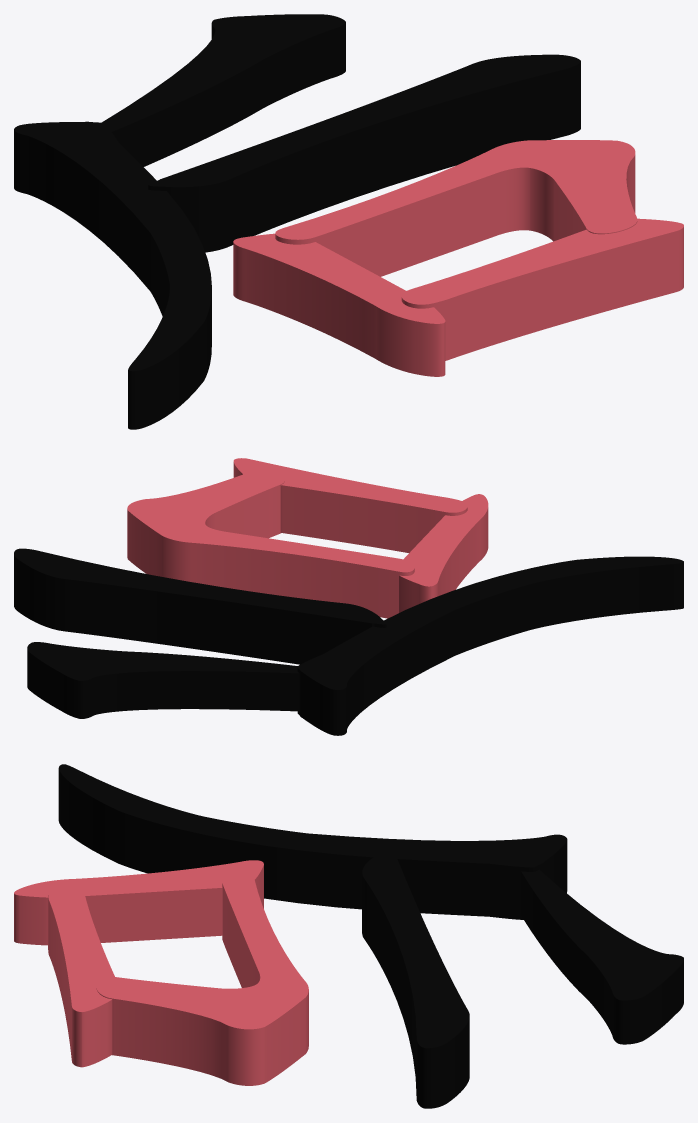
The model's file is hanzi82.fbx.
3 renders of one model, top to bottom at view 1: azimuth 30°, elevation 25°; view 2: azimuth 150°, elevation 25°; view 3: azimuth 270°, elevation 25°, orthographic. The views are drawn at different scales.
Parts seen in each view (by area): view 1: Curve.002, Curve.004, Curve.001, Curve.005, Curve, Curve.003; view 2: Curve.001, Curve.002, Curve.004, Curve, Curve.005, Curve.003; view 3: Curve.001, Curve.004, Curve.002, Curve, Curve.003, Curve.005.
Boxes of the visible parts, box(x1,y1,x2,y2) form: Curve.002: box(148, 54, 580, 252); Curve.004: box(275, 140, 637, 276); Curve.001: box(14, 121, 211, 429); Curve.005: box(401, 218, 683, 360); Curve: box(101, 14, 345, 166); Curve.003: box(233, 233, 445, 376); Curve.001: box(297, 556, 683, 735); Curve.002: box(14, 548, 386, 664); Curve.004: box(127, 472, 414, 618); Curve: box(27, 642, 299, 718); Curve.005: box(233, 458, 467, 552); Curve.003: box(399, 494, 488, 612); Curve.001: box(58, 764, 567, 919); Curve.004: box(96, 871, 308, 1085); Curve.002: box(362, 848, 469, 1108); Curve: box(521, 869, 683, 1044); Curve.003: box(14, 860, 263, 945); Curve.005: box(48, 885, 114, 1067).
Bounding box in the file's own units: 23.36 × 22.98 × 2.29.
